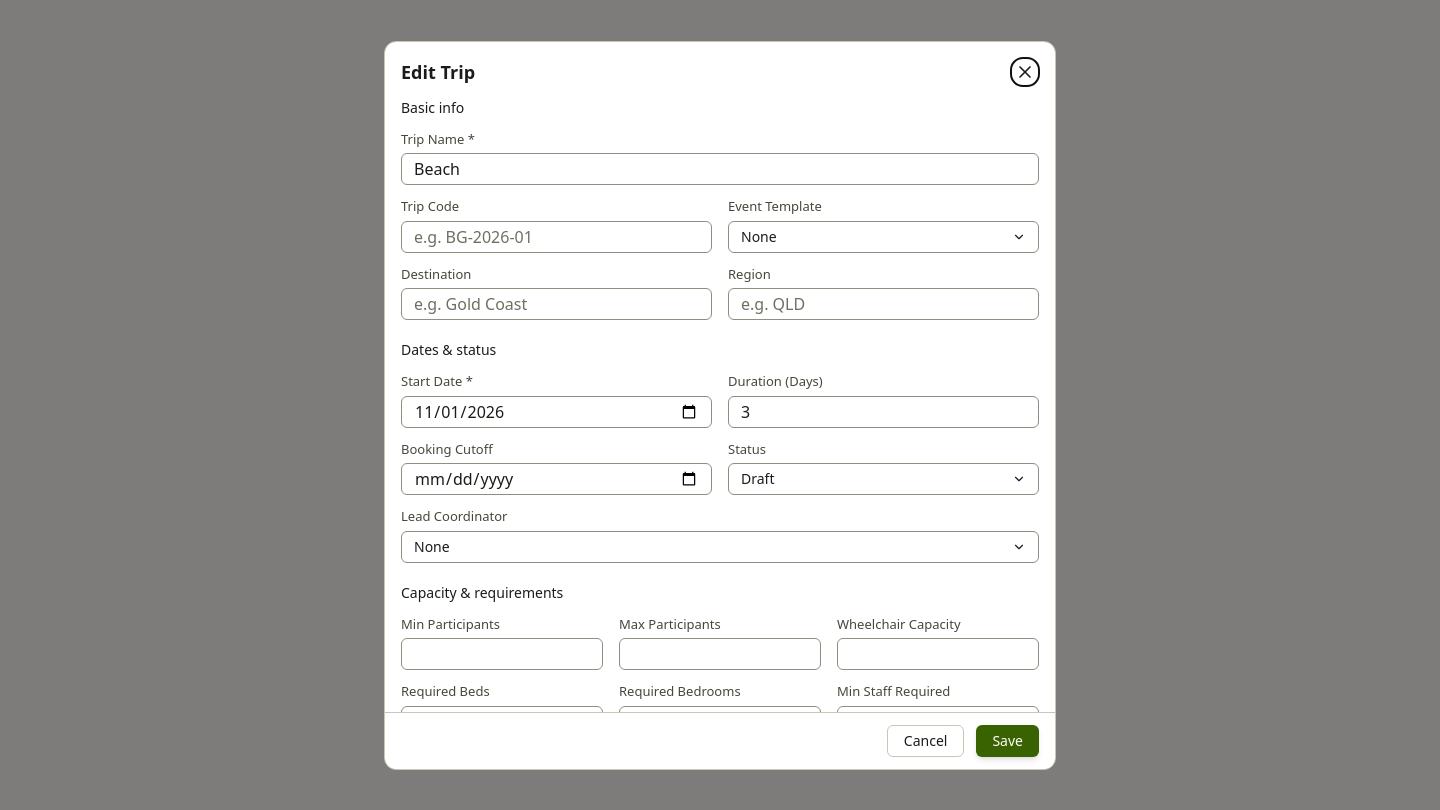
EditTripModal — what Save refuses › refuses a duration below one day with a field error
This screenshot has width=1440, height=810.
Expected: the date field labelled "Start Date *" is shown, [401,396,712,428]
Replace the text in the number field labelled "Duration (Days)" with "0": (884, 412) [728,396,1039,428]
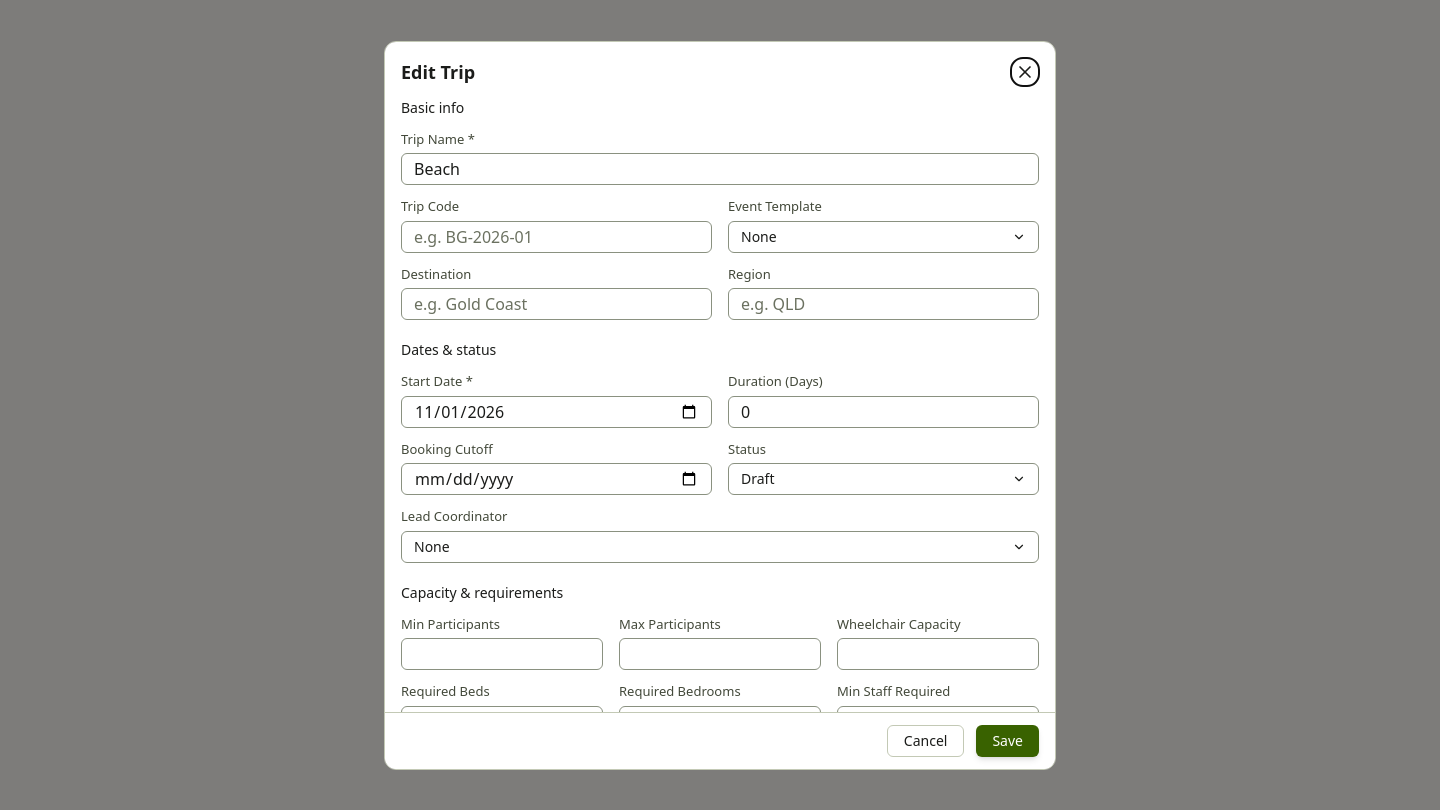
Click the button "Save": (1008, 740) [976,724,1039,756]
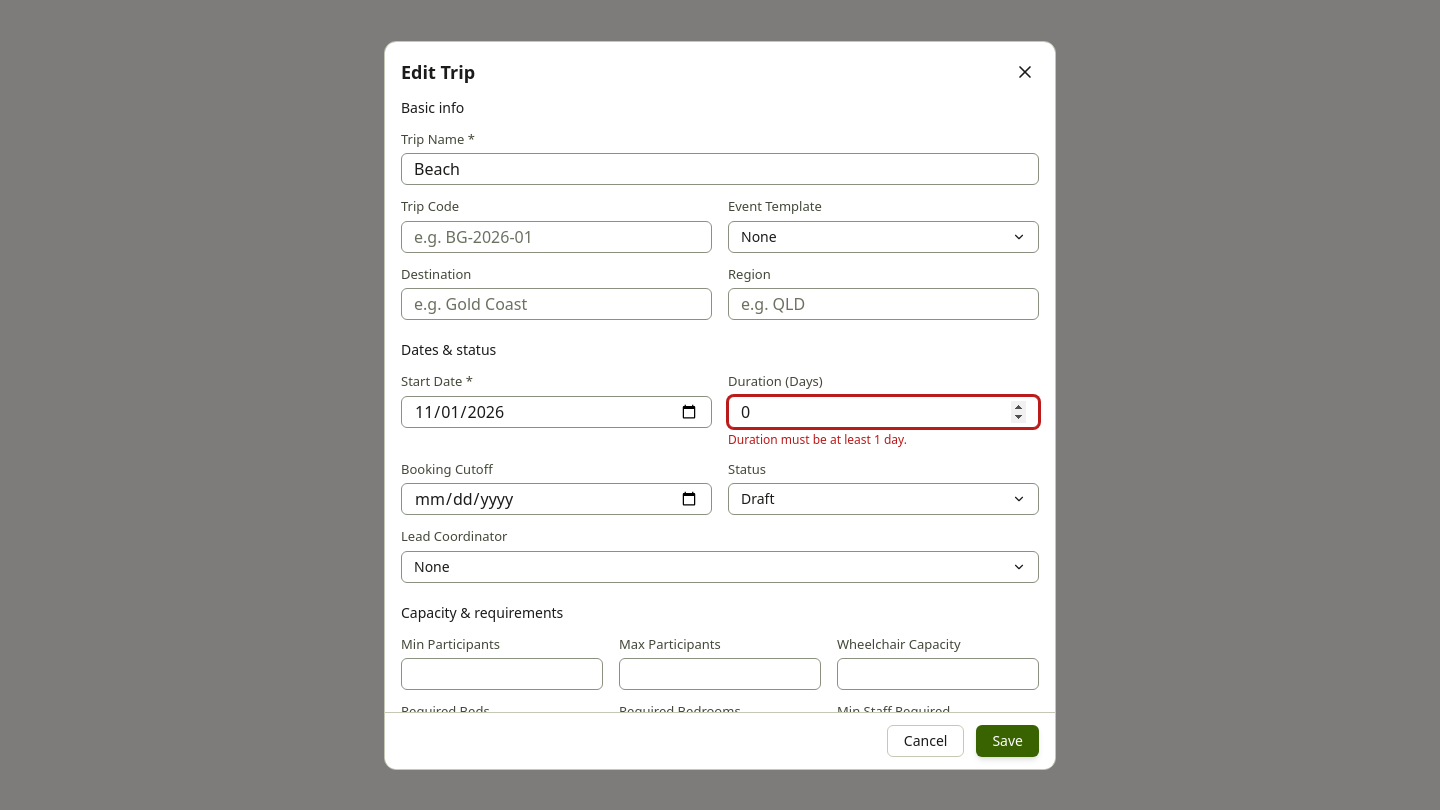
Expected: the message reads "Duration must be at least 1 day.", [728,430,907,448]
